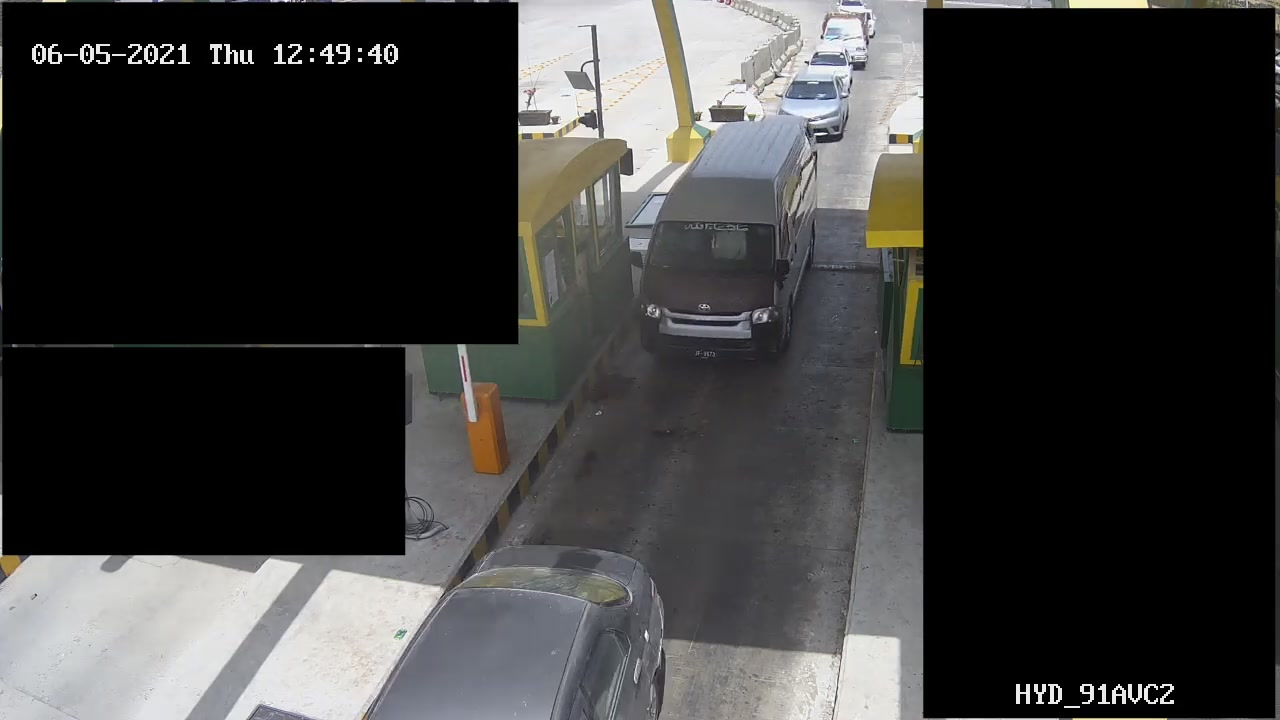F2: (627, 114, 822, 364)
